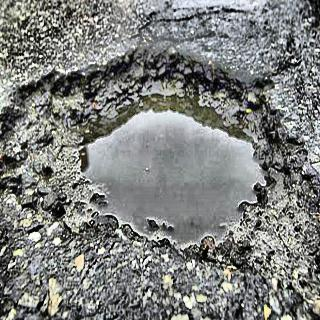alligator-crack: (132, 2, 267, 57)
crack: (260, 51, 306, 82)
pothole: (0, 44, 320, 303)
